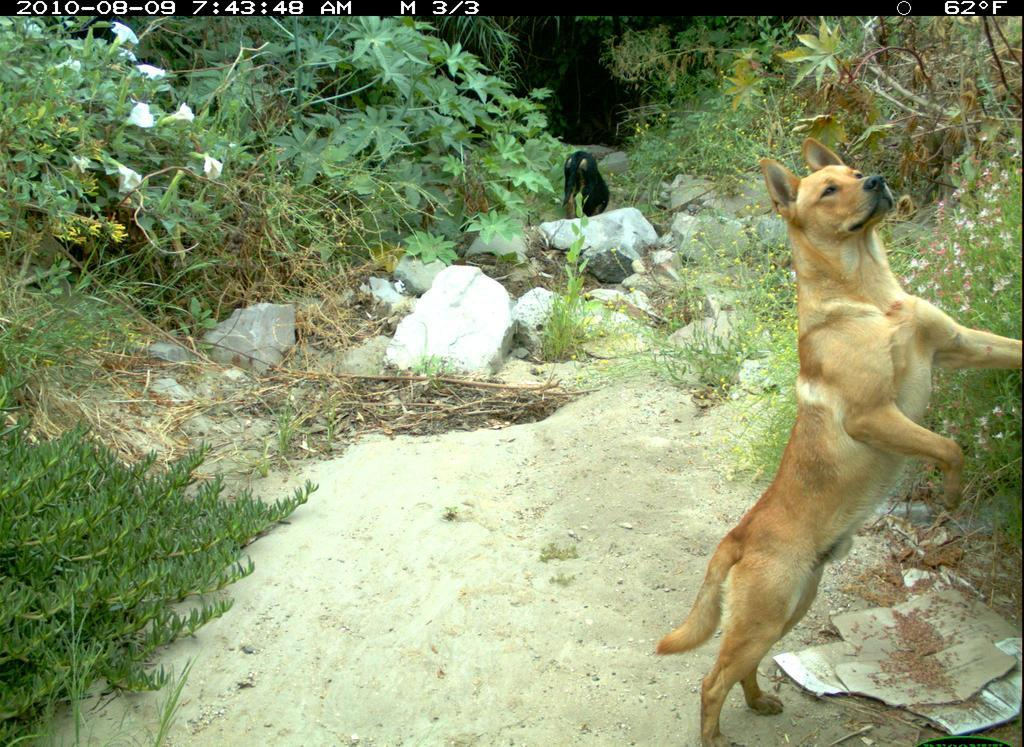dog: (649, 127, 1023, 747), (561, 145, 618, 226)
